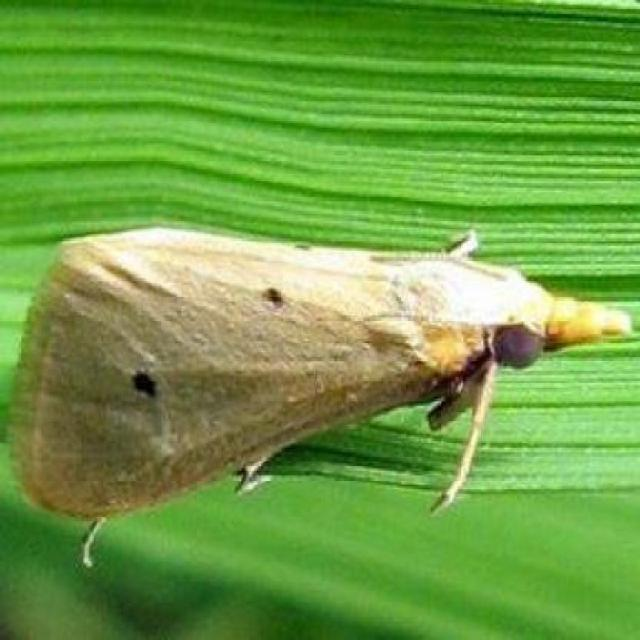stem-borer: (0, 218, 640, 533)
